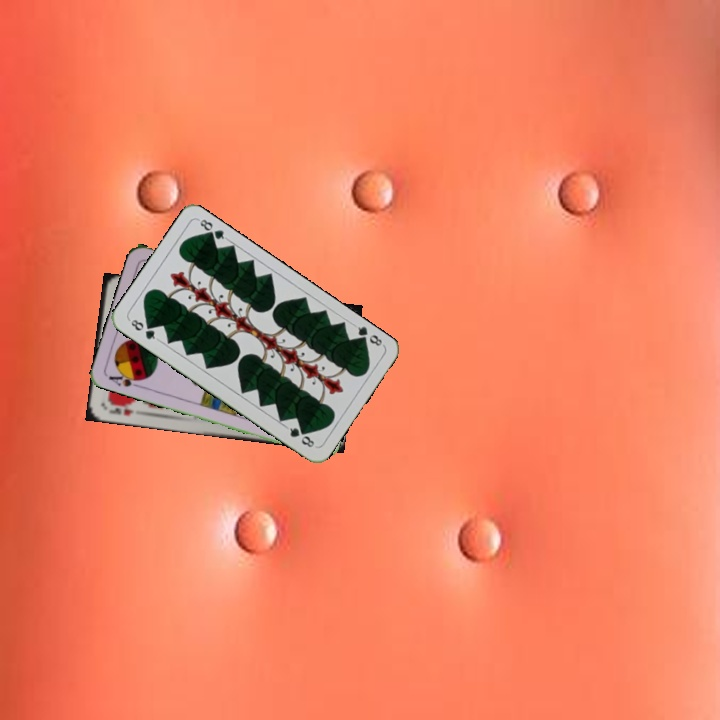G8: (350, 320, 386, 349), (125, 315, 161, 343)
HK: (105, 404, 136, 419)
SA: (104, 367, 146, 391)
